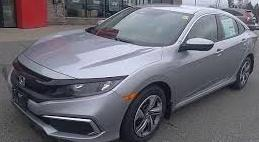Cars: (10, 8, 257, 142)
